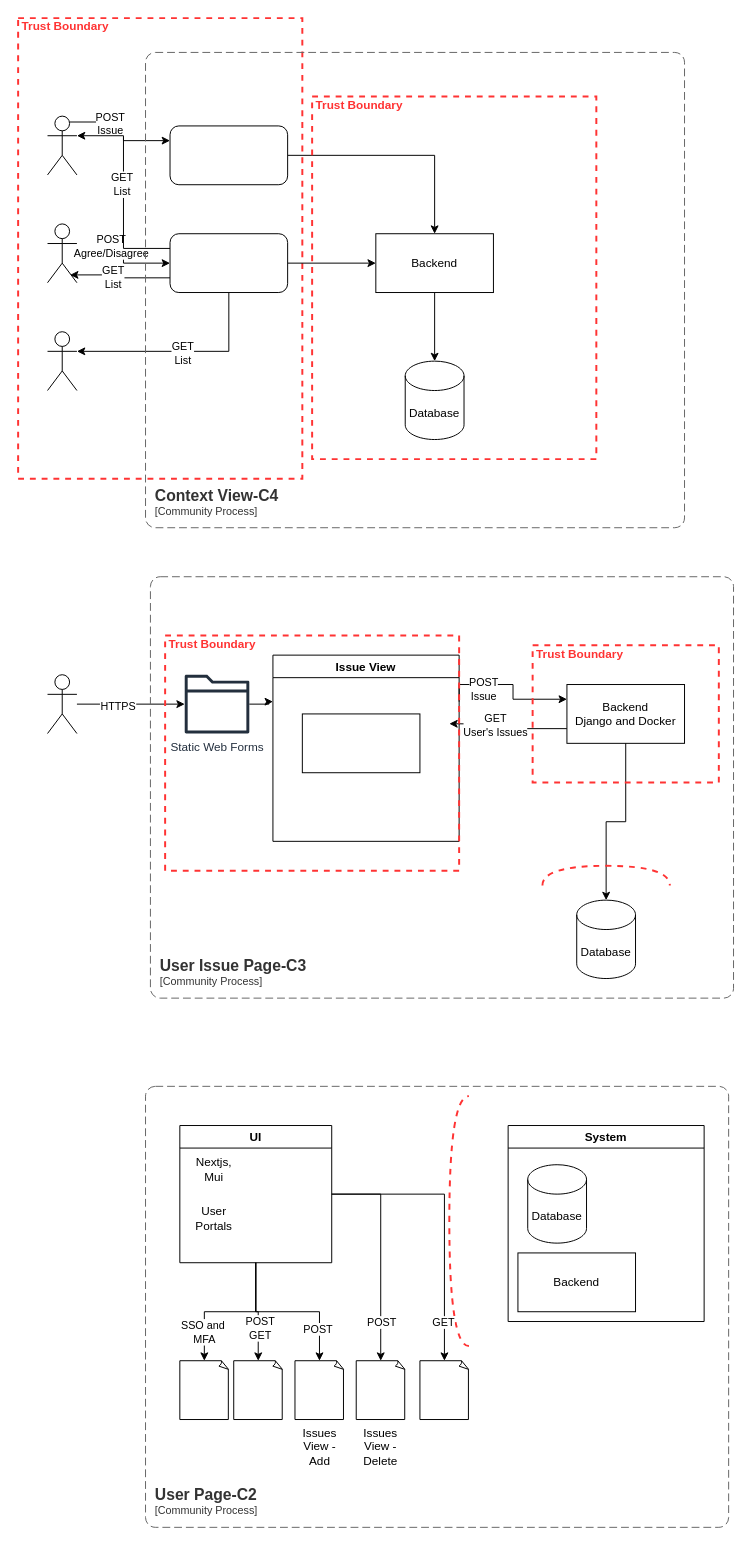
The diagram is 751 pixels wide and 1544 high, and some of its shapes have lost their labels. Here are the shapes that lost their labels. From the top down, the centre of each, then its label:
At (x=62, y=145): "Local User".
At (x=228, y=155): "ADD/Delete Issue View".
At (x=62, y=253): "Local official".
At (x=228, y=263): "Local Issue Board".
At (x=62, y=361): "Campaigner".
At (x=62, y=704): "User".
At (x=360, y=743): "Nextjs and Mui".
At (x=204, y=1390): "Login Page".
At (x=258, y=1390): "Account Page".
At (x=444, y=1390): "Issues board".
